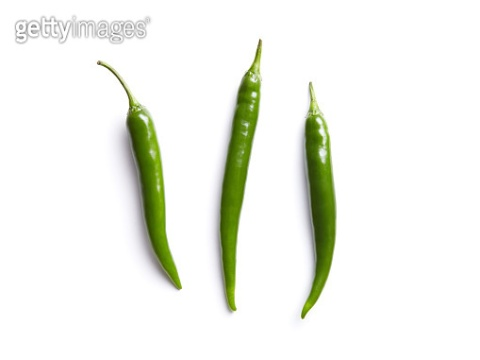Chilli: (94, 55, 188, 296), (202, 41, 276, 322), (288, 70, 352, 331)
